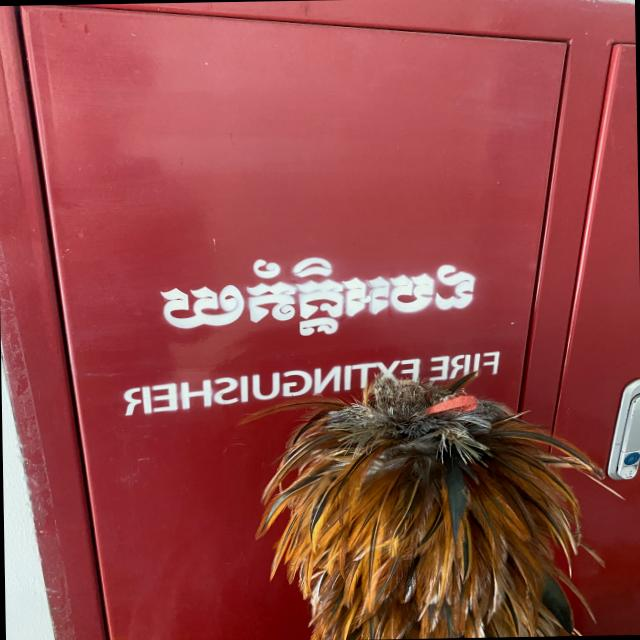Yolov11_80vkh: (138, 243, 498, 361)
